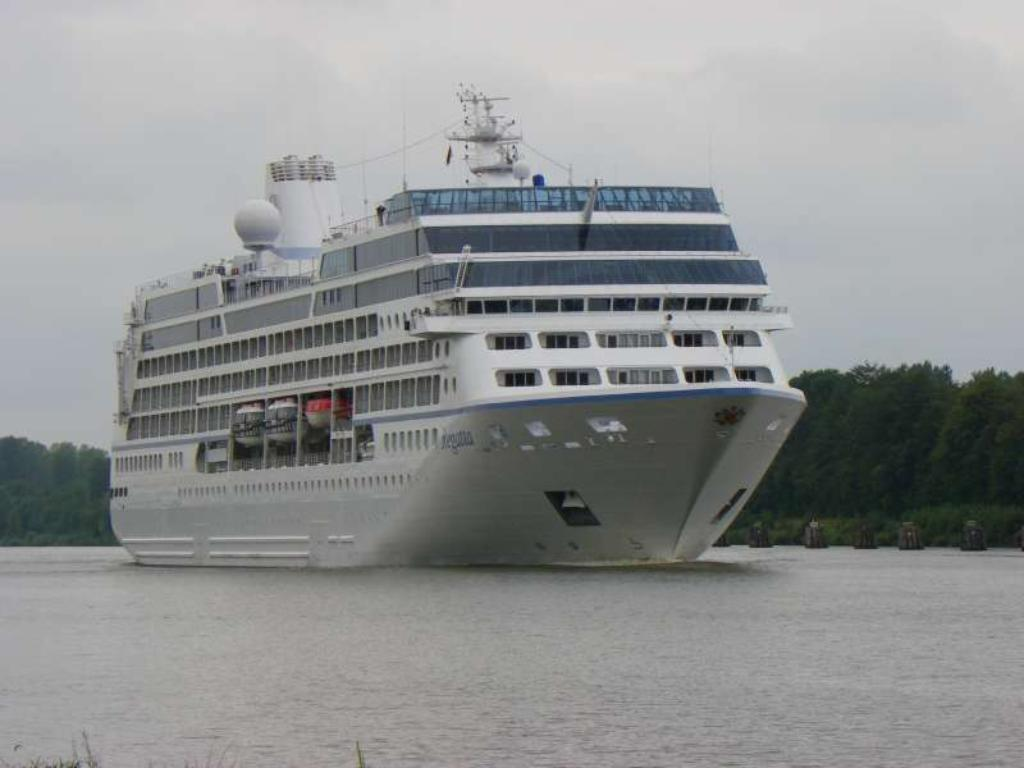PassengerShip: (102, 80, 818, 580)
